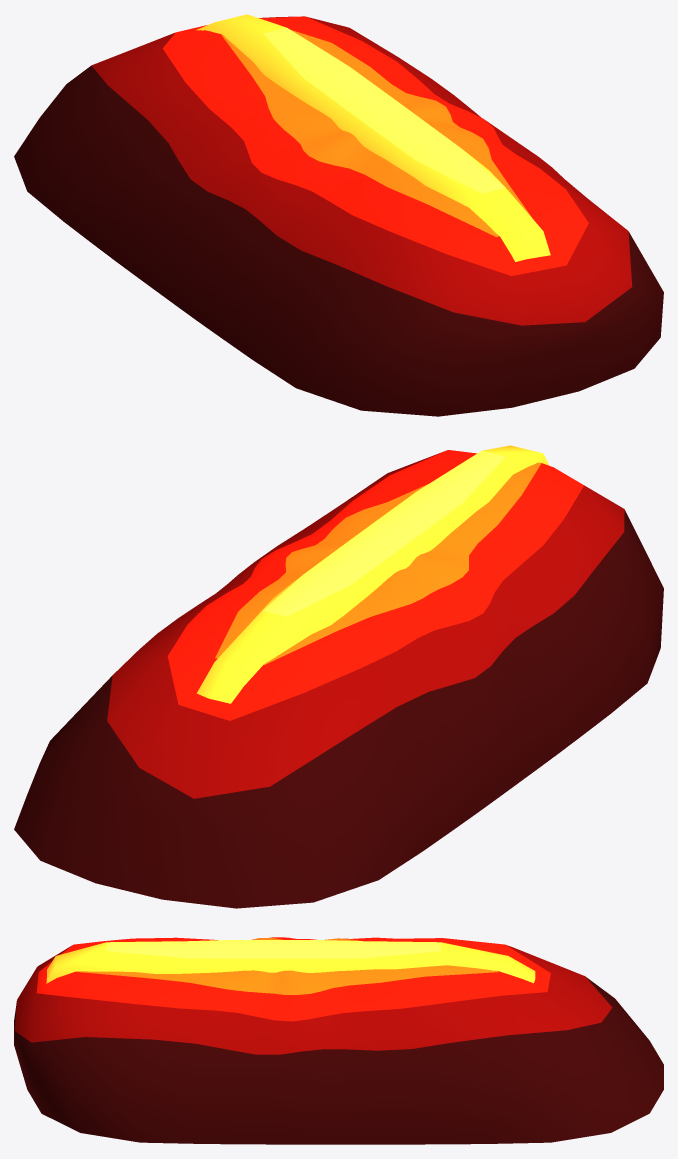
The model's file is shot_eminor_260.glb.
3 views of the same model, one above another, from view 1: azimuth 30°, elevation 25°; view 2: azimuth 150°, elevation 25°; view 3: azimuth 270°, elevation 25° (orthographic). The views are drawn at different scales.
Parts seen in each view (by area): view 1: shot_eminor_260_fire, shot_eminor_260_heart; view 2: shot_eminor_260_fire, shot_eminor_260_heart; view 3: shot_eminor_260_fire, shot_eminor_260_heart.
Part boxes in pixels (x1=…): shot_eminor_260_fire: x1=14, y1=16, x2=663, y2=416; shot_eminor_260_heart: x1=196, y1=14, x2=550, y2=261; shot_eminor_260_fire: x1=14, y1=450, x2=663, y2=908; shot_eminor_260_heart: x1=196, y1=445, x2=548, y2=703; shot_eminor_260_fire: x1=14, y1=937, x2=663, y2=1144; shot_eminor_260_heart: x1=46, y1=940, x2=535, y2=983.
Bounding box in the file's own units: 7 × 3.25 × 14.24.
